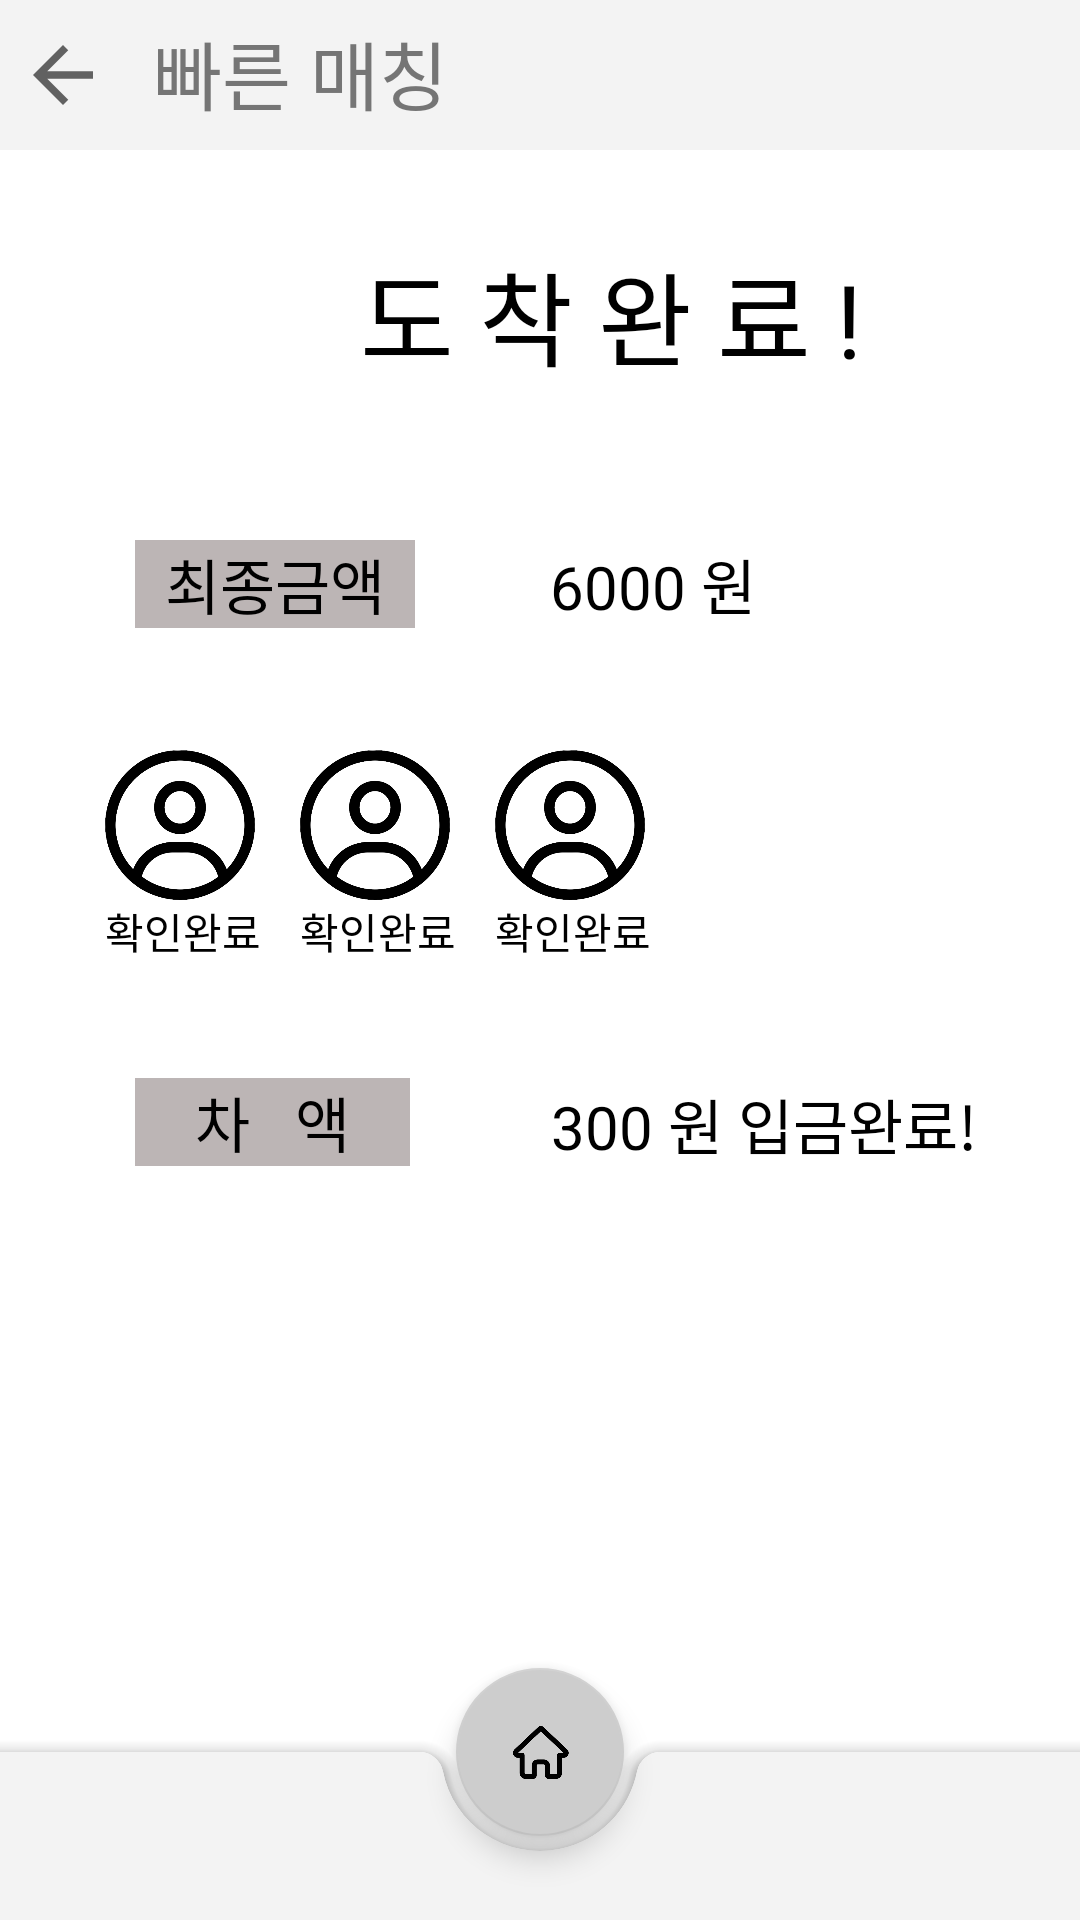

Icons on this 1080x1920 Android screen, each with the point to tap as (x,y):
homebutton: (540,1752)
user: (180,825), (375,825), (570,825)
